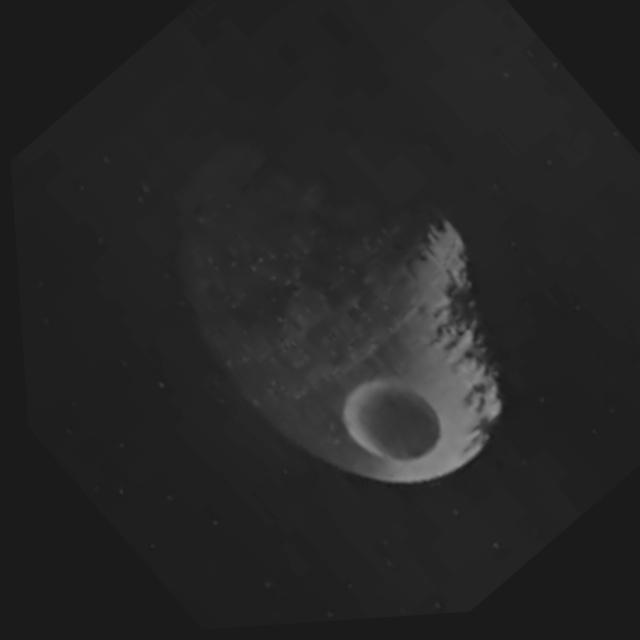death-stars: (190, 170, 495, 488)
